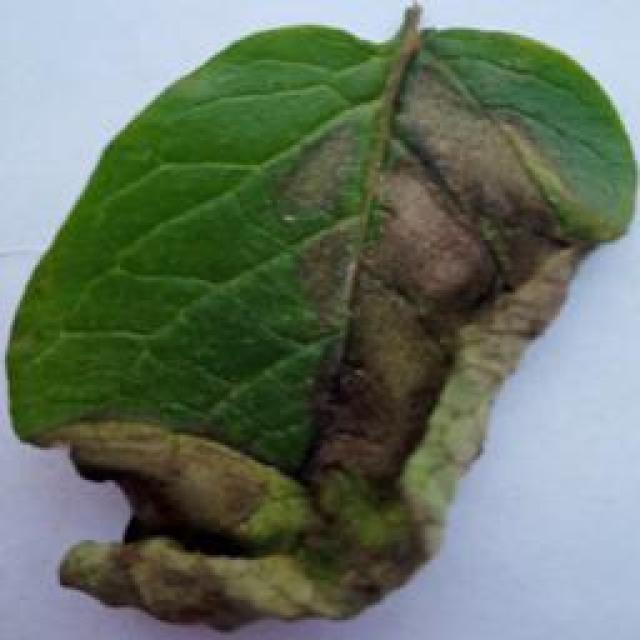Potato_Late_Blight: (13, 6, 631, 632)
